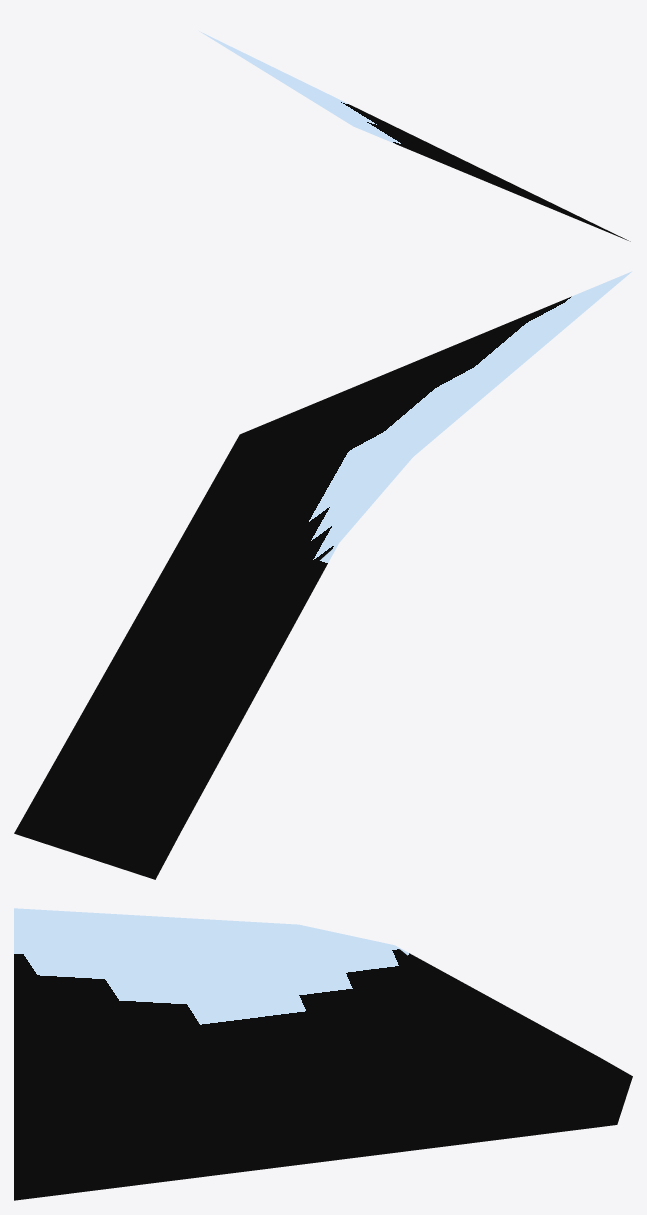
3 views of the same model, one above another, from view 1: azimuth 30°, elevation 25°; view 2: azimuth 150°, elevation 25°; view 3: azimuth 270°, elevation 25° (orthographic). The views are drawn at different scales.
Bounding box in the file's own units: 0.3301 × 0.2081 × 0.6944.
1 material, 1 textured.
